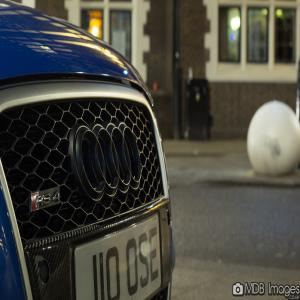Vehicle-registration-plate: (76, 230, 172, 289)
